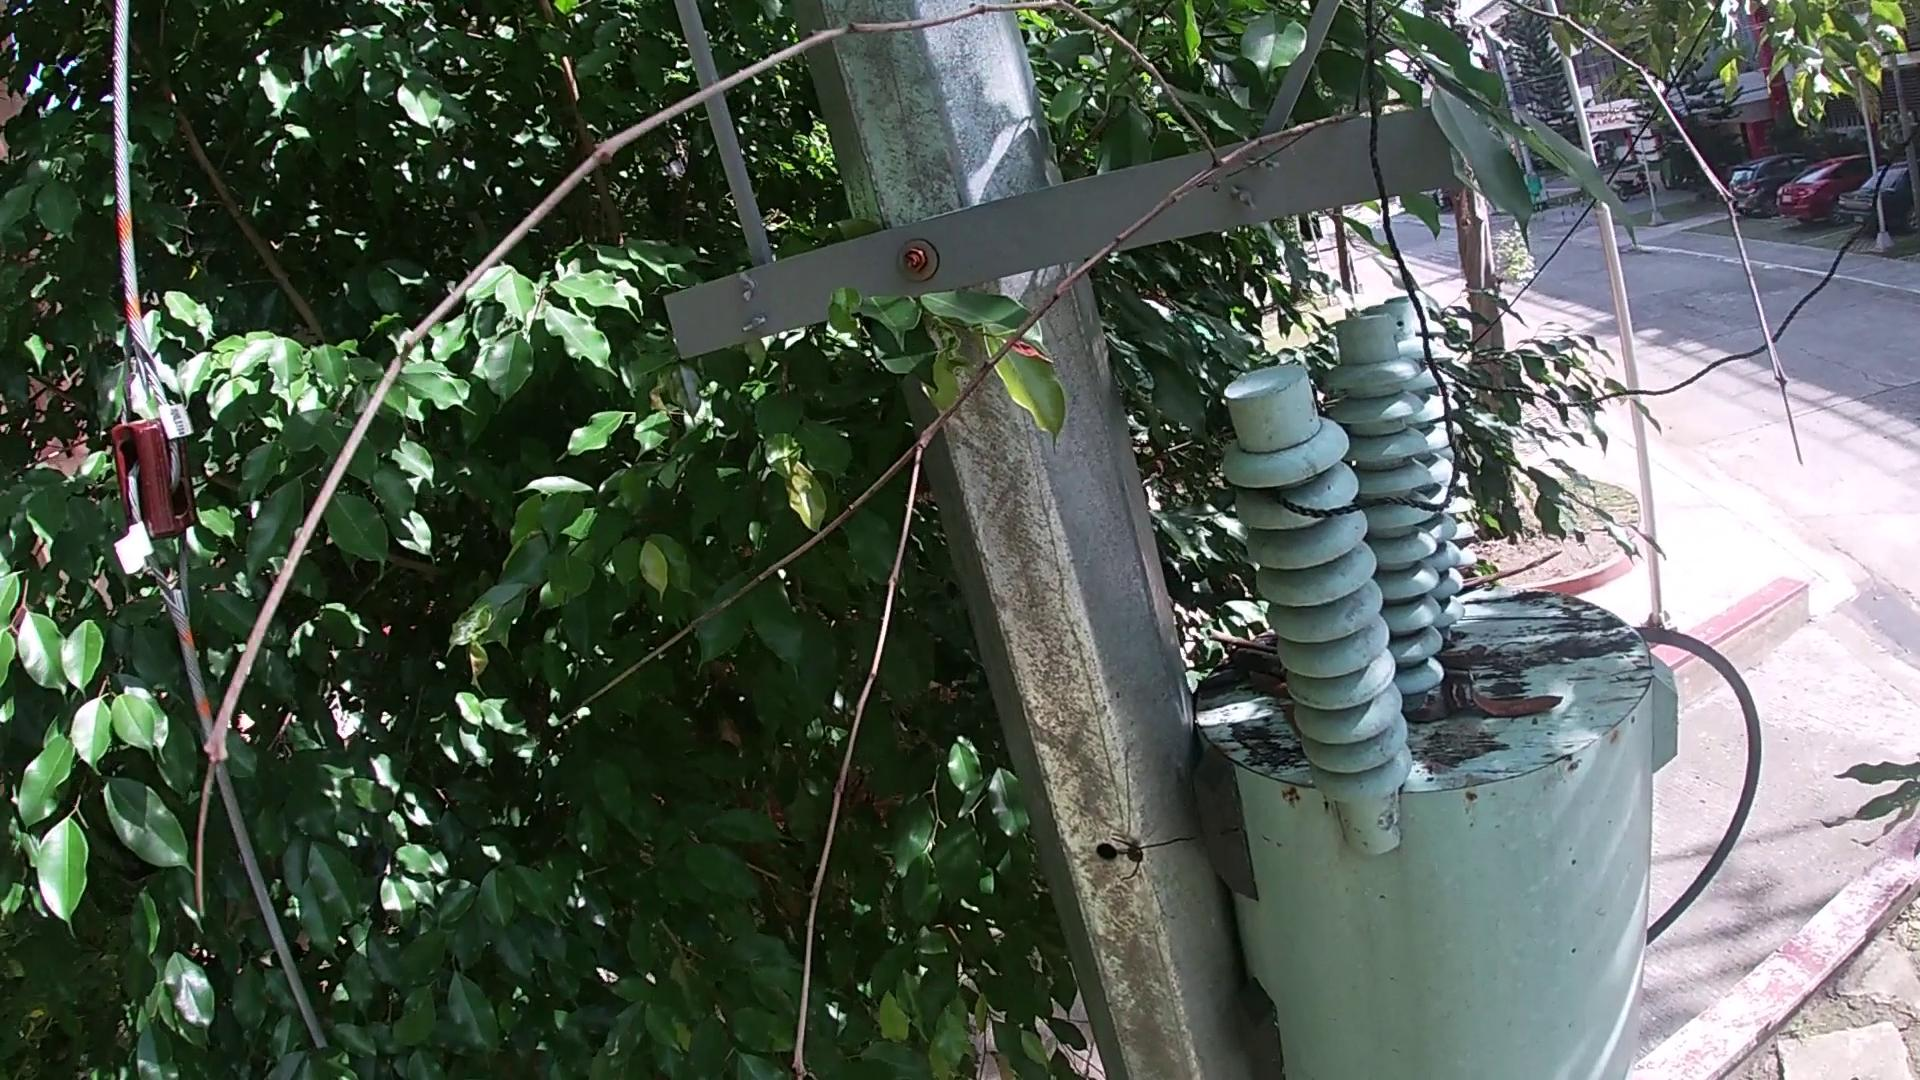leaf: (1462, 673, 1568, 723), (1242, 665, 1290, 705)
tree branch: (181, 1, 1809, 1077), (1456, 546, 1571, 600), (1207, 626, 1284, 676)
